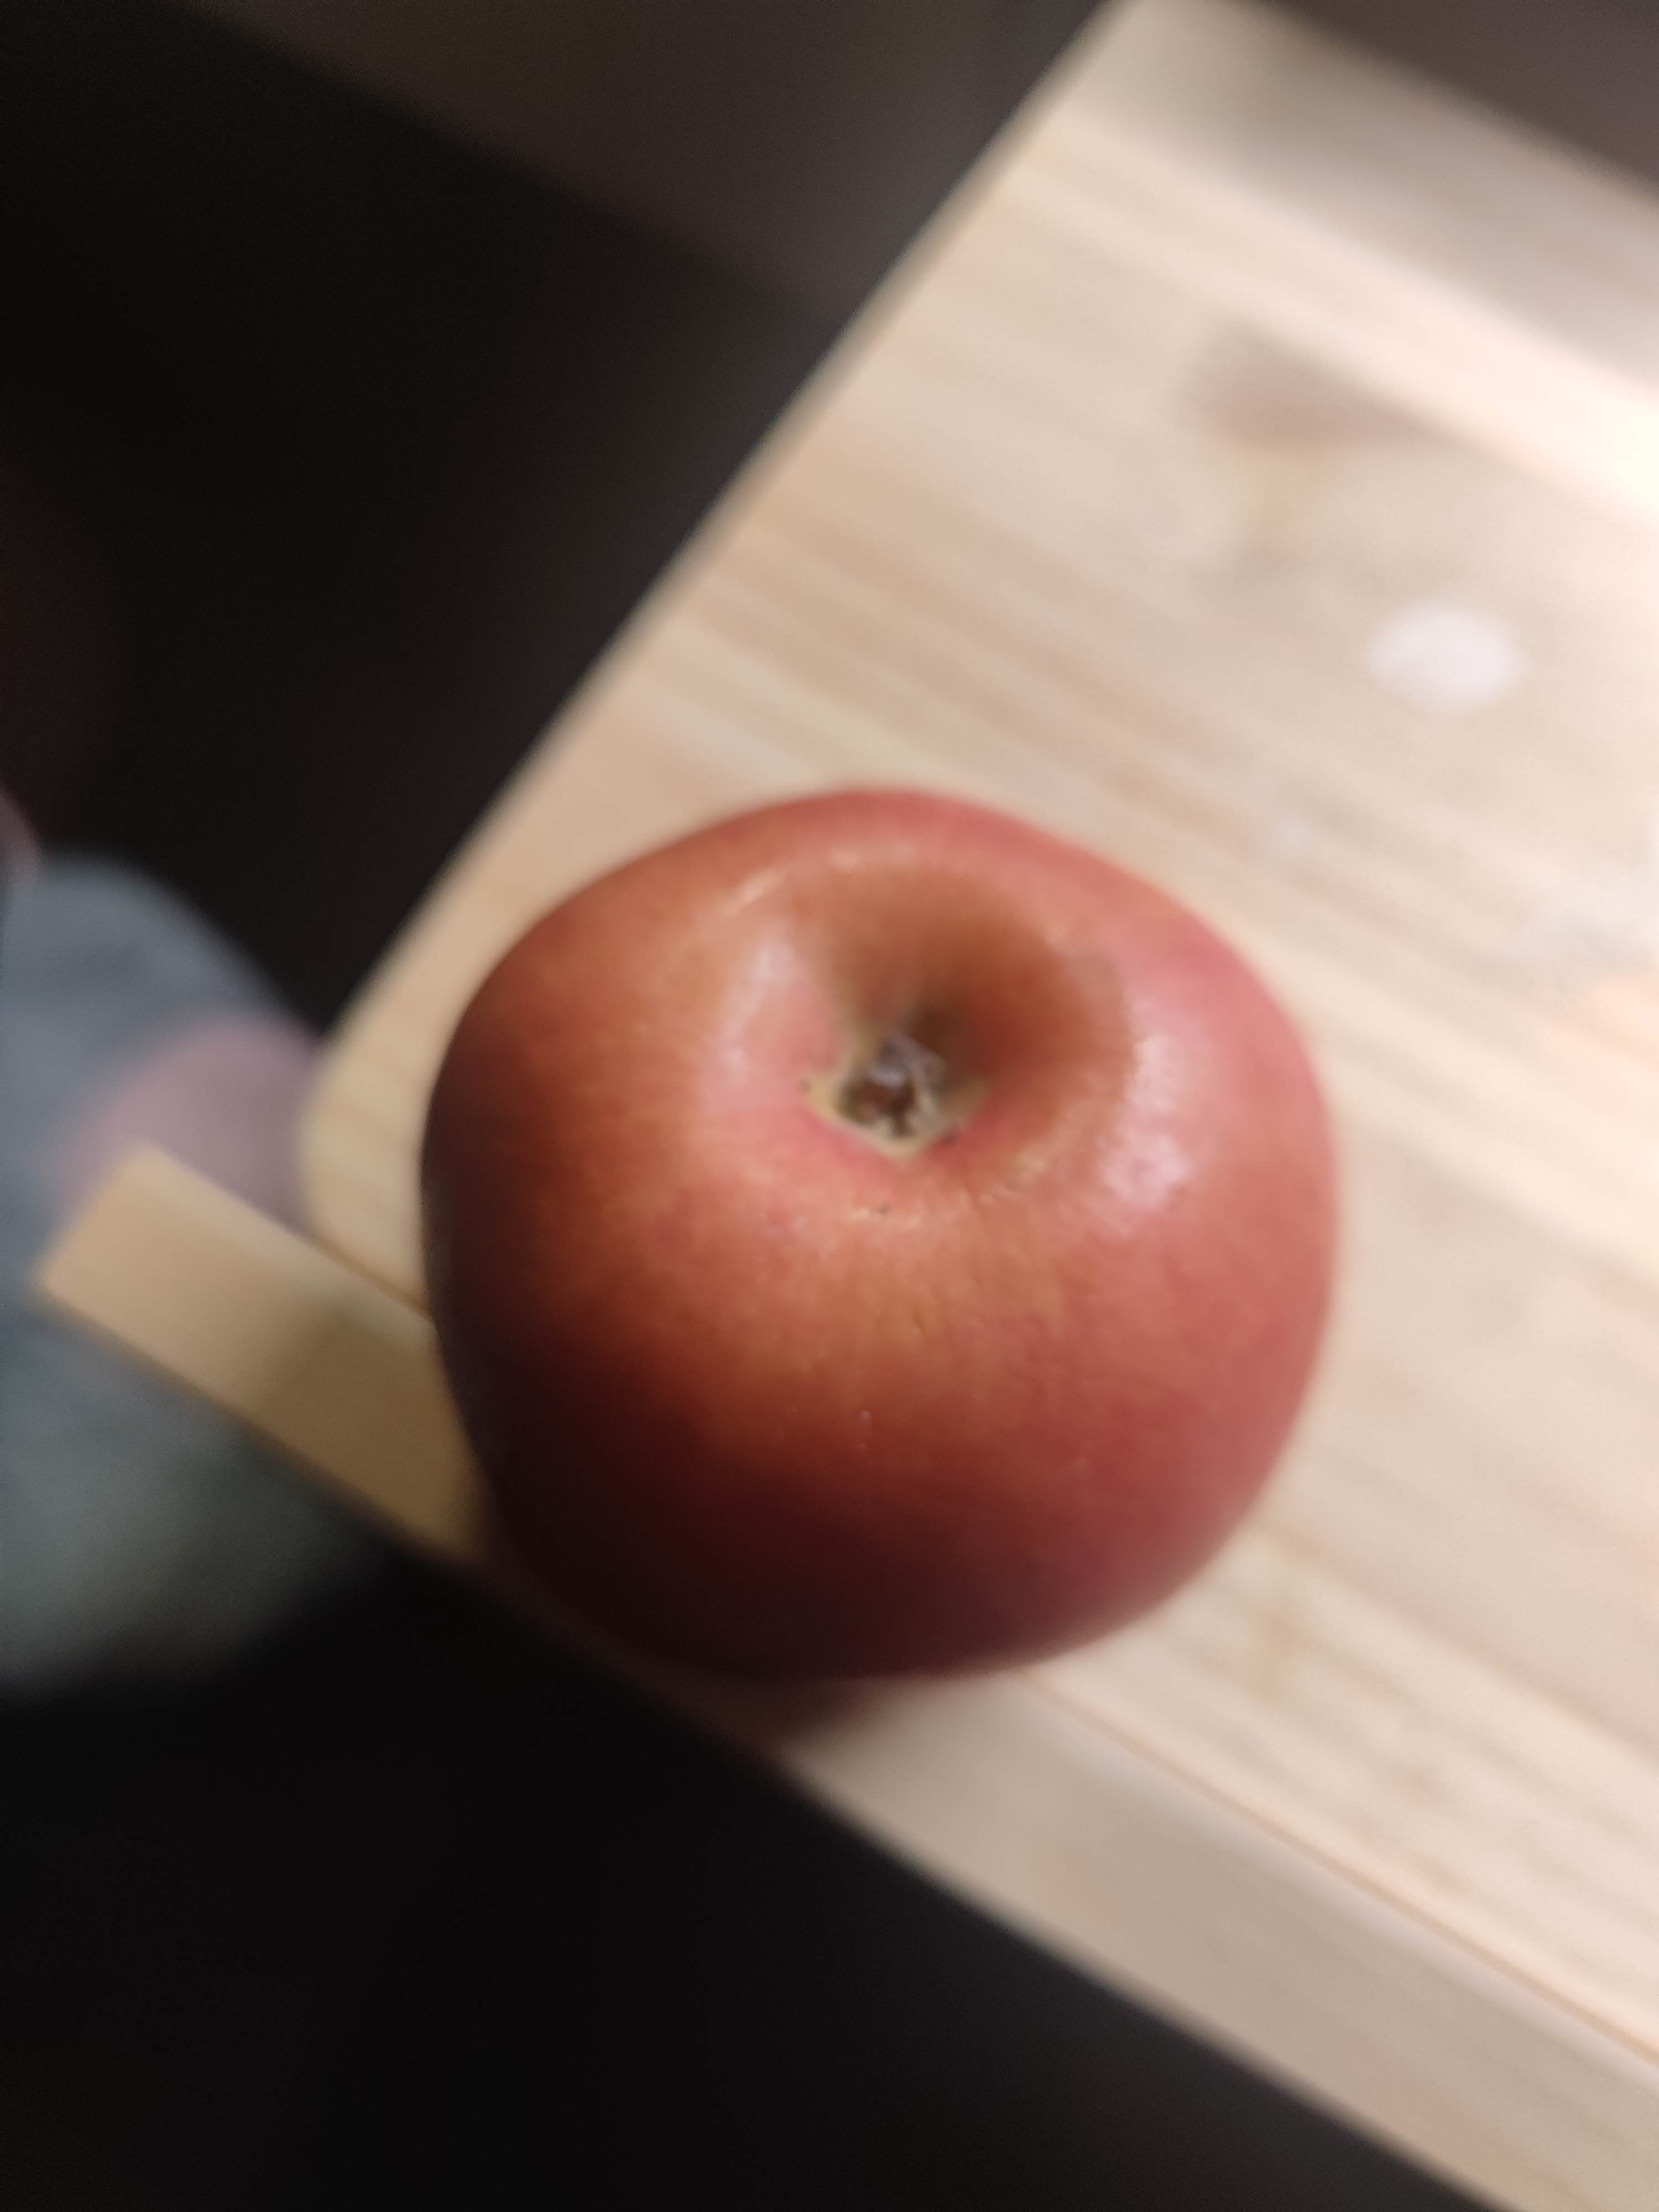apple: (415, 768, 1361, 1696)
